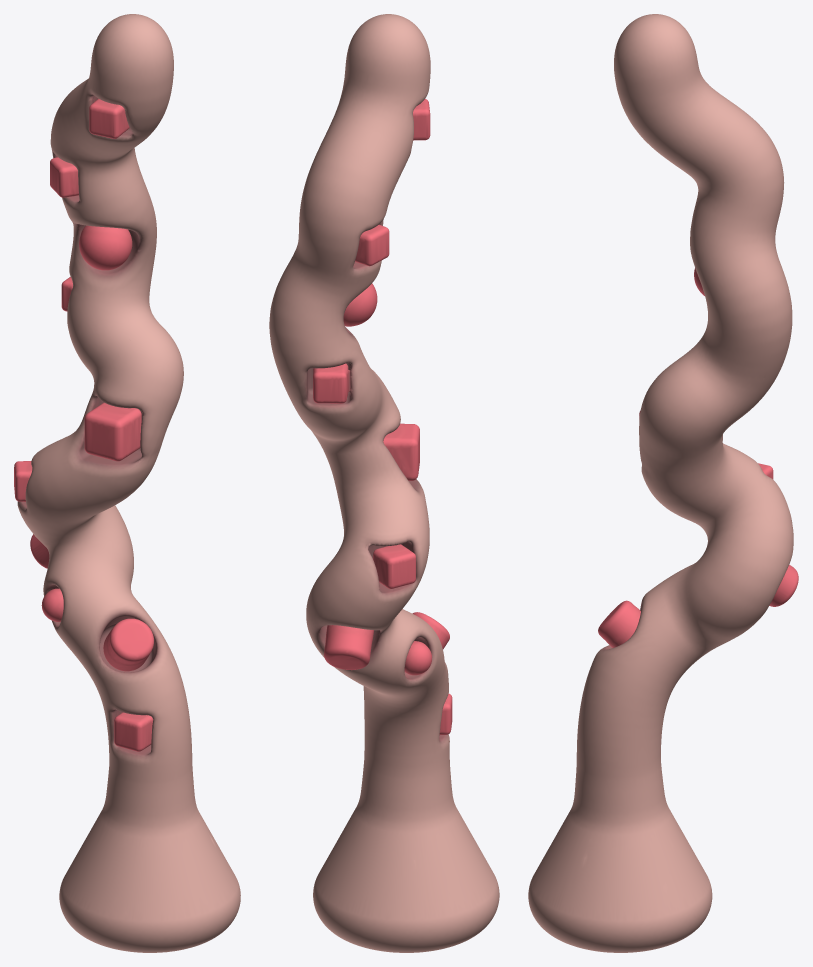
Rendered from stem.glb.
The picture shows the model from 3 angles, left to right: view 1: azimuth 30°, elevation 25°; view 2: azimuth 150°, elevation 25°; view 3: azimuth 270°, elevation 25°; orthographic projection. The views are drawn at different scales.
Parts seen in each view (by area): view 1: Area (1); view 2: Area (1); view 3: Area (1).
Boxes of the visible parts, x1,y1,x2,y2 form: Area (1): (14, 14, 240, 952); Area (1): (269, 14, 499, 952); Area (1): (528, 14, 798, 952).
Size of the model in its own units: 0.5633 by 3.06 by 0.8278.
1 material, 1 textured.
